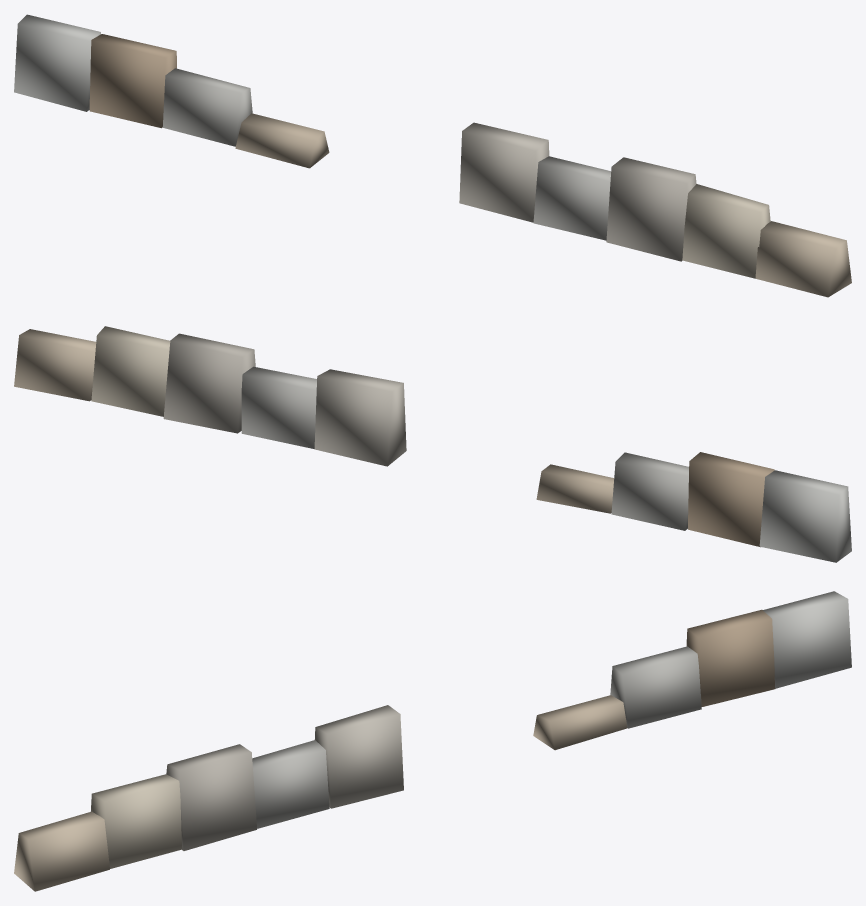
File: farm_5_9_far.glb
3 views of the same model, one above another, from view 1: azimuth 30°, elevation 25°; view 2: azimuth 210°, elevation 25°; view 3: azimuth 270°, elevation 25° (orthographic).
Visible parts, largest first — view 1: geometry_0; view 2: geometry_0; view 3: geometry_0.
Part boxes in pixels (left/top/right/bottom): geometry_0: left=14, top=14, right=851, bottom=297; geometry_0: left=14, top=326, right=851, bottom=562; geometry_0: left=14, top=591, right=851, bottom=891.
Size of the model in its own units: 8.88 by 1.53 by 14.18.
